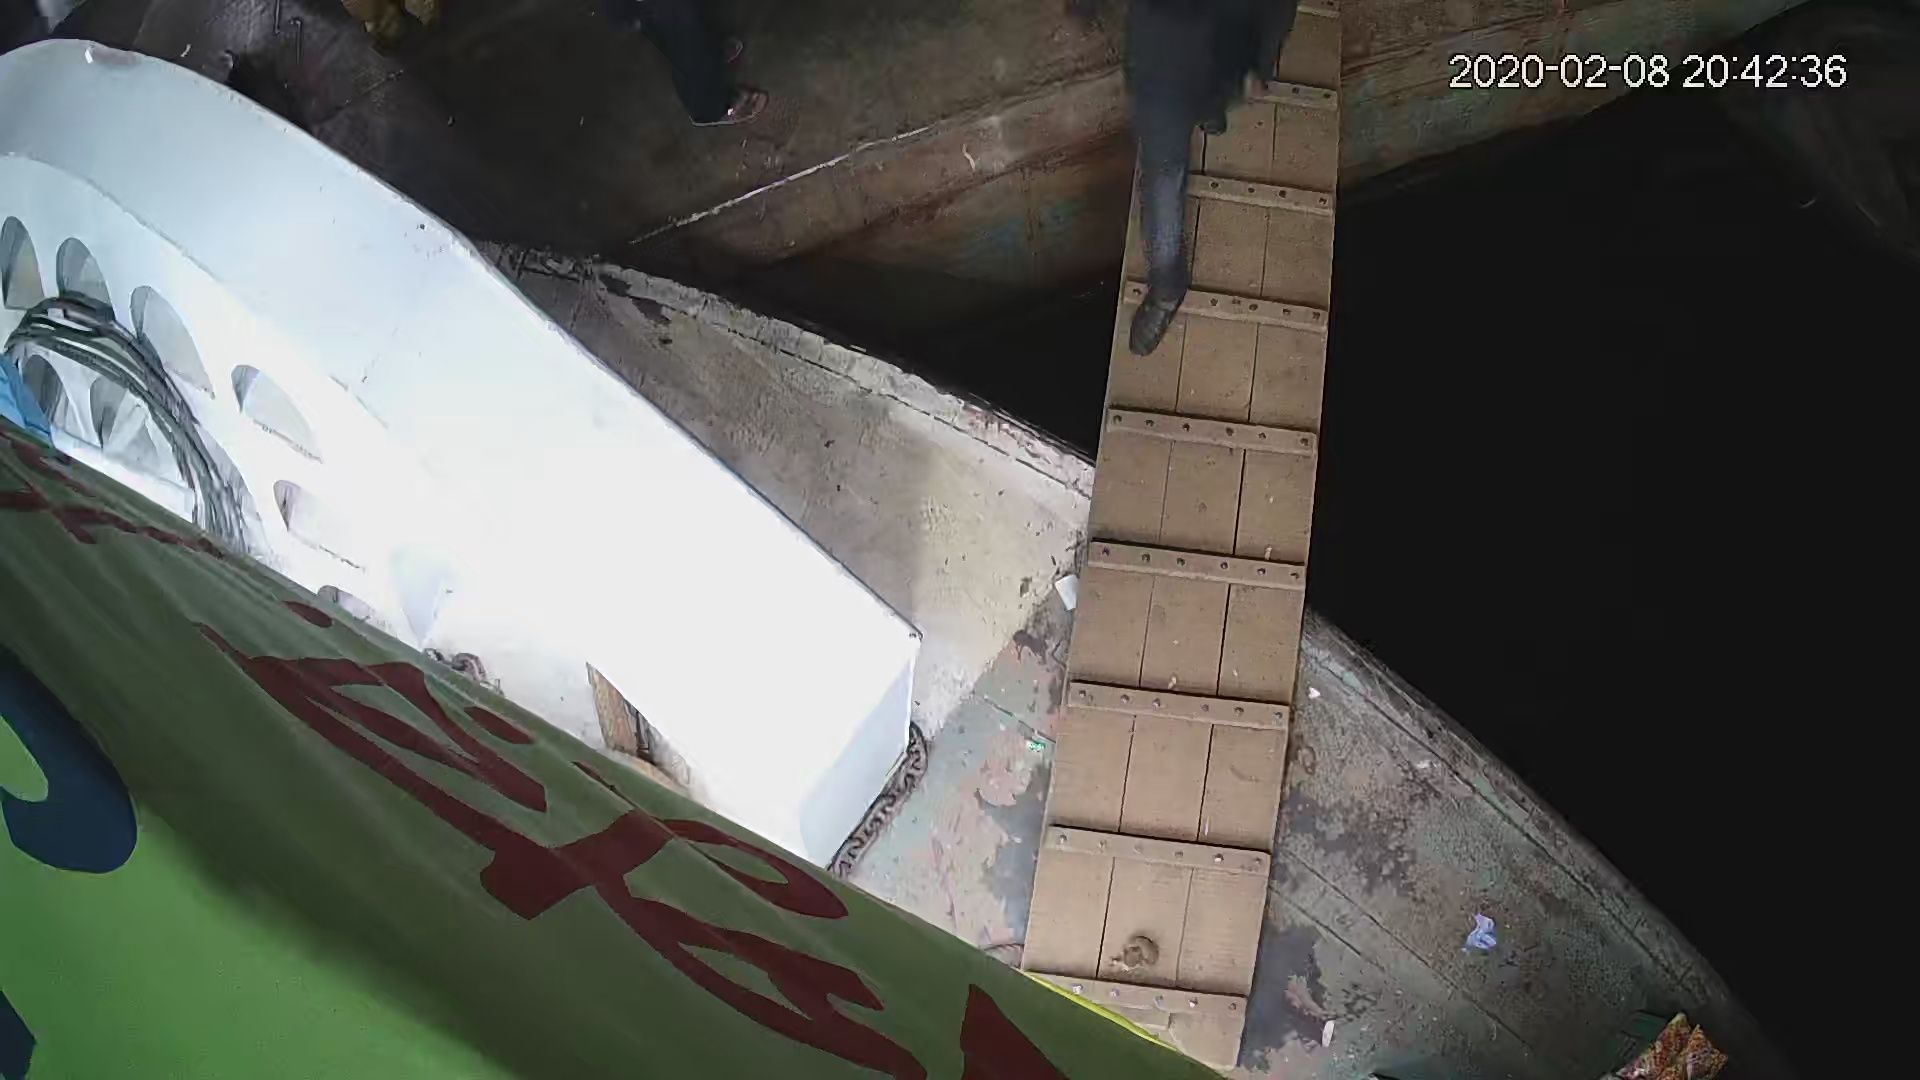person: (1090, 1, 1303, 349)
